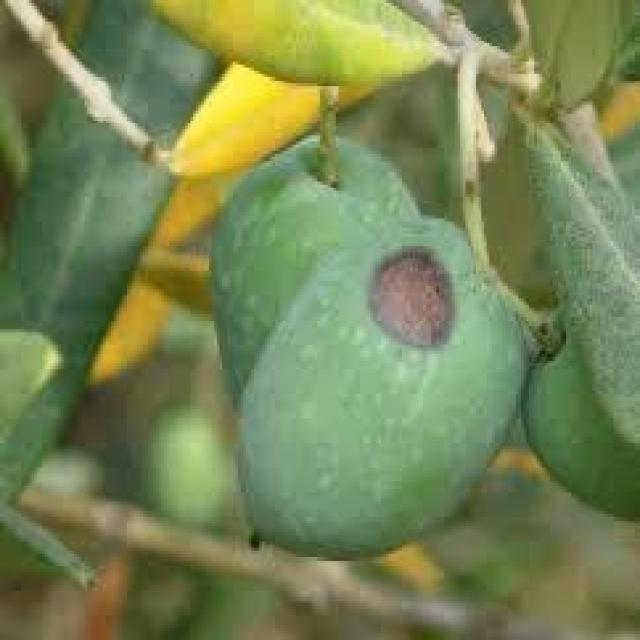Anthracnose: (238, 246, 524, 554)
